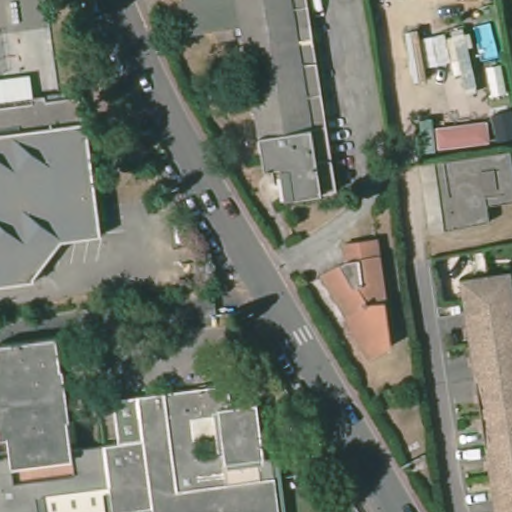pool: (470, 19, 503, 66)
